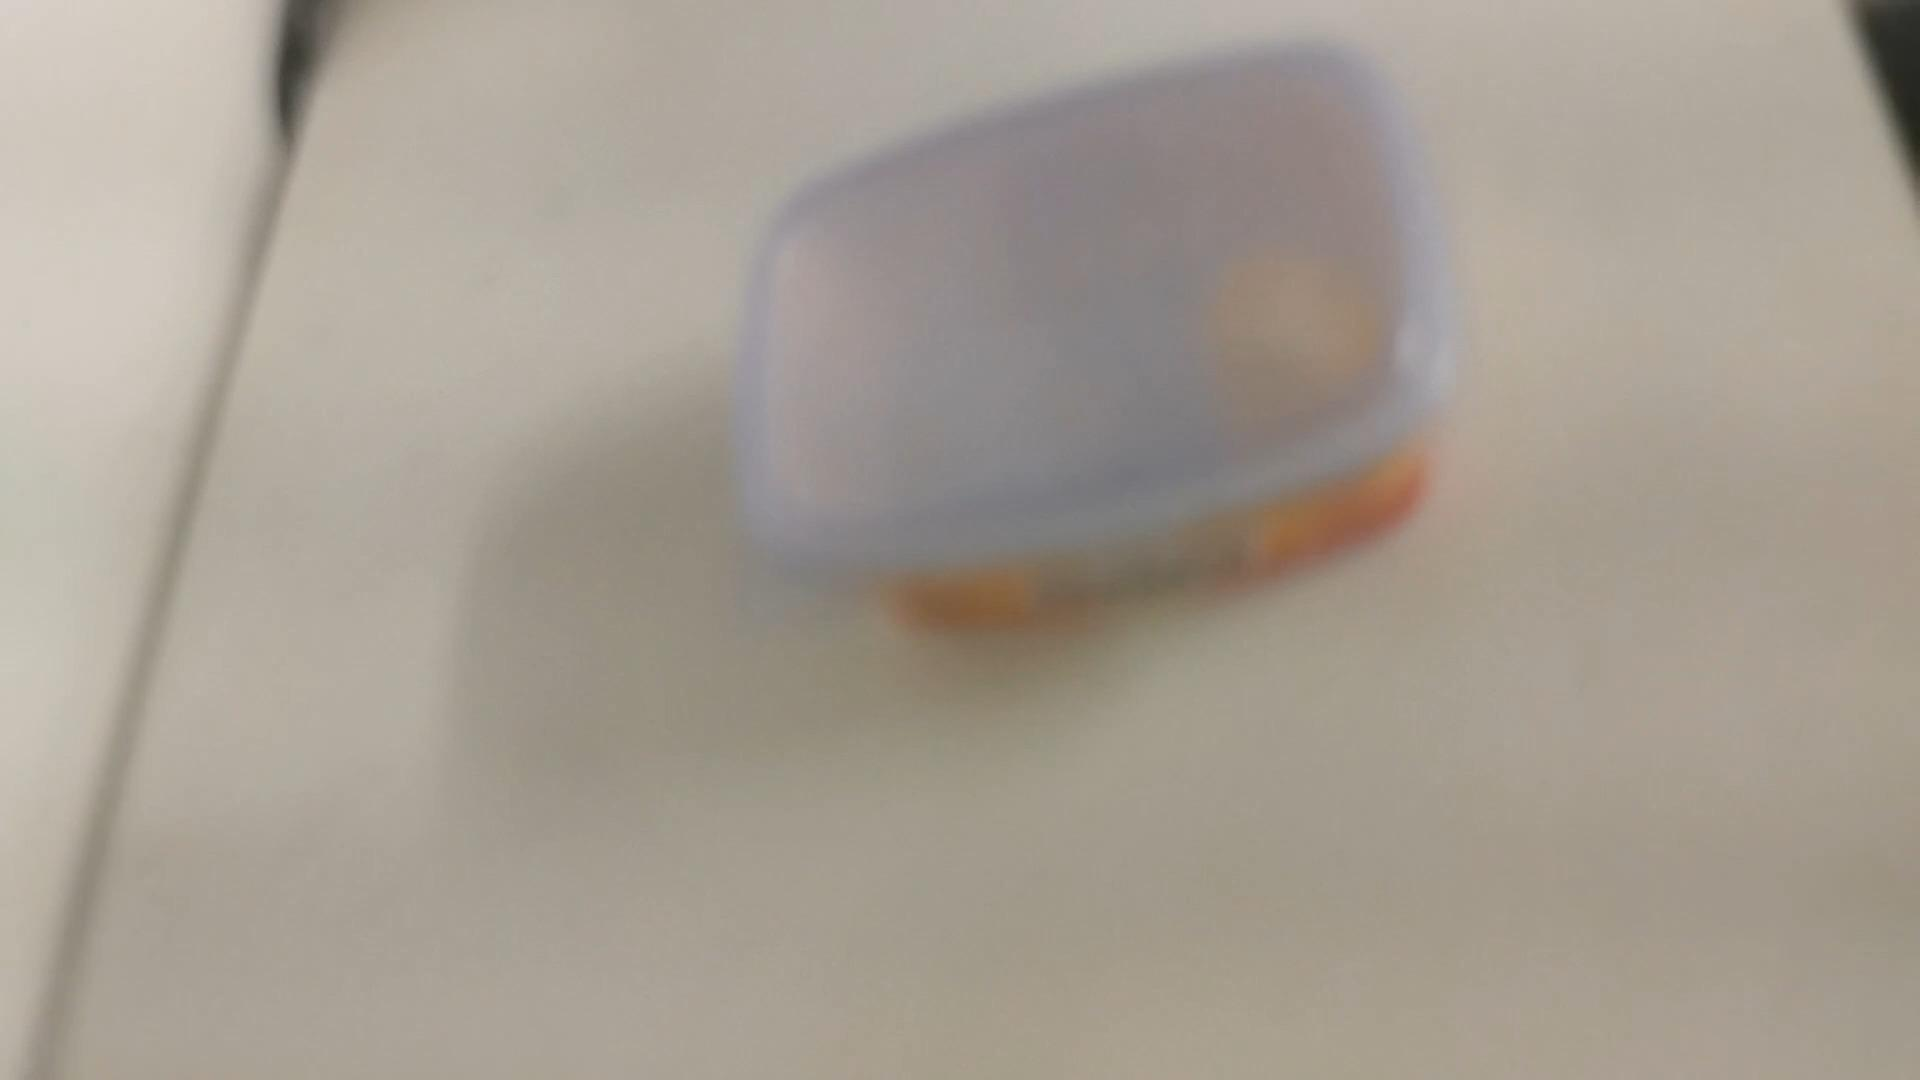butter: (732, 37, 1464, 641)
